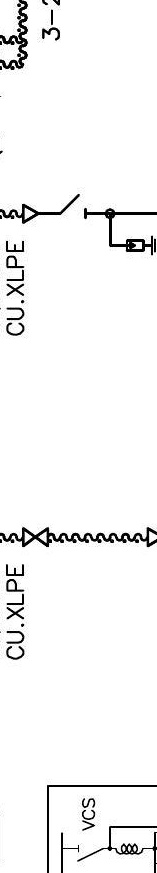terminator_single: (21, 202, 40, 225)
terminator_splicing_kits: (21, 527, 49, 548)
